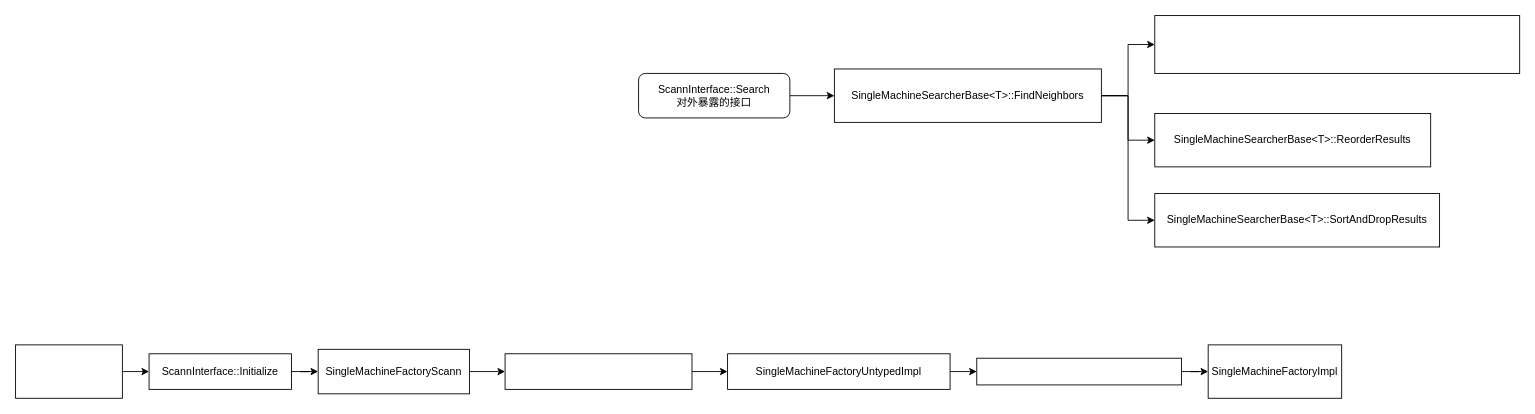
This 1535x414 diagram has some shape labels left out. Each missing label, with the box of its shape:
searcher的创建: (15, 344, 122, 398)
SingleMachineFactoryImplClass: (976, 357, 1181, 385)
SingleMachineFactoryUntypedScann: (504, 353, 692, 389)
SingleMachineSearcherBase<T>::FindNeighborsNoSortNoExactReorder: (1154, 15, 1520, 73)
